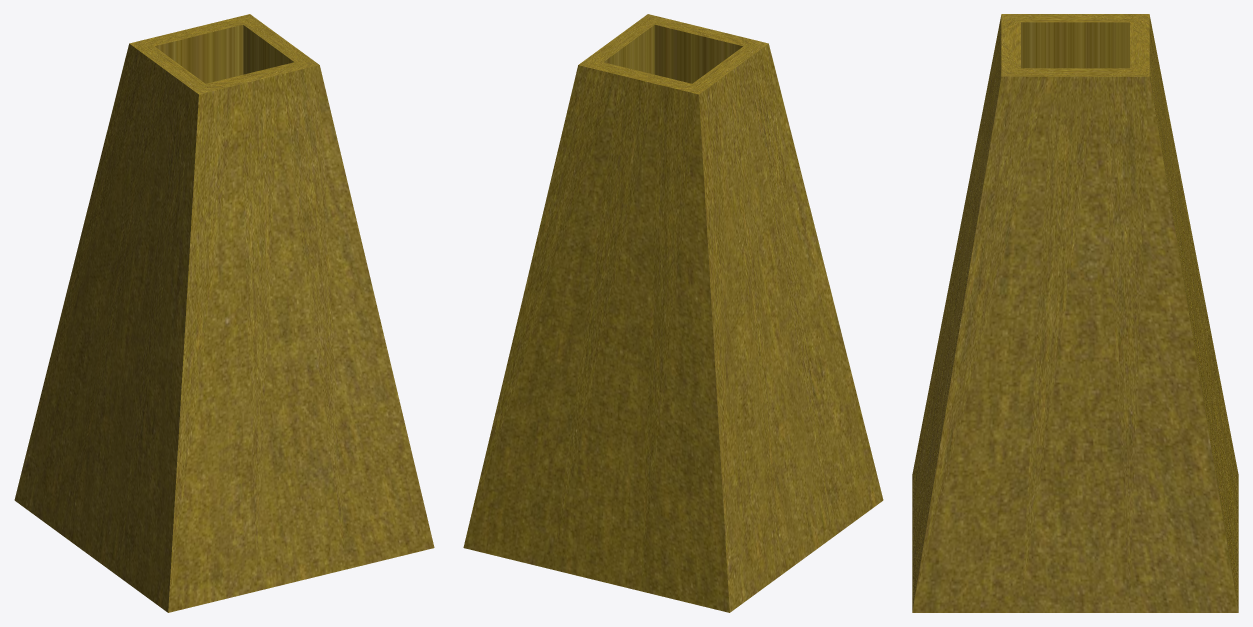
The model's file is fire.fbx.
3 renders of one model, left to right at view 1: azimuth 30°, elevation 25°; view 2: azimuth 150°, elevation 25°; view 3: azimuth 270°, elevation 25°, orthographic. The views are drawn at different scales.
Visible parts, largest first — view 1: pCube1; view 2: pCube1; view 3: pCube1.
Part boxes in pixels (bbox=[...]): pCube1: bbox=[14, 14, 434, 612]; pCube1: bbox=[463, 14, 883, 612]; pCube1: bbox=[912, 14, 1238, 612].
Bounding box in the file's own units: 3.47 × 5.85 × 3.47.
Materials: 1 (1 with a texture image).
